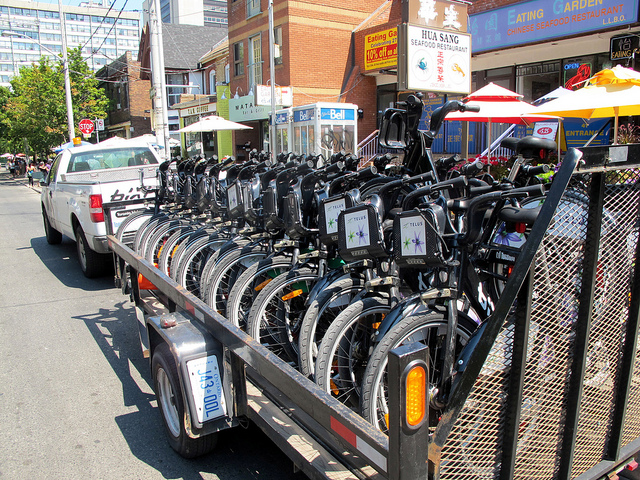Car: (42, 148, 164, 262)
Stop: (76, 118, 100, 134)
